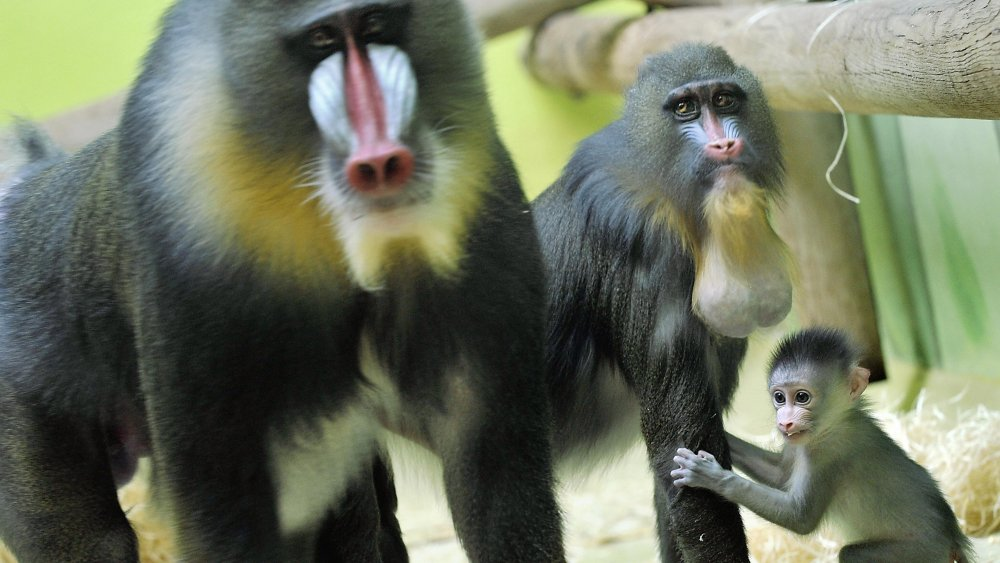Mandrill: (14, 4, 564, 551), (535, 41, 781, 541), (764, 345, 972, 555)
